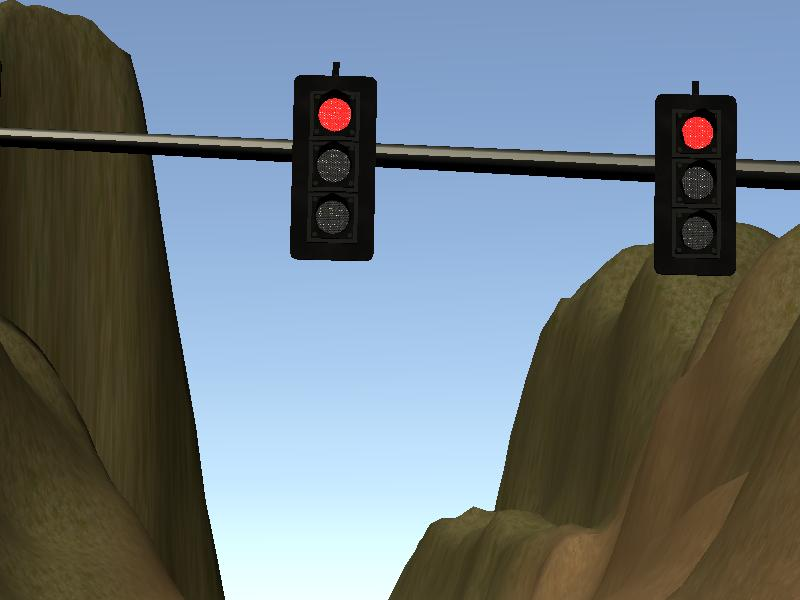red: (289, 72, 374, 260), (654, 93, 736, 275)
